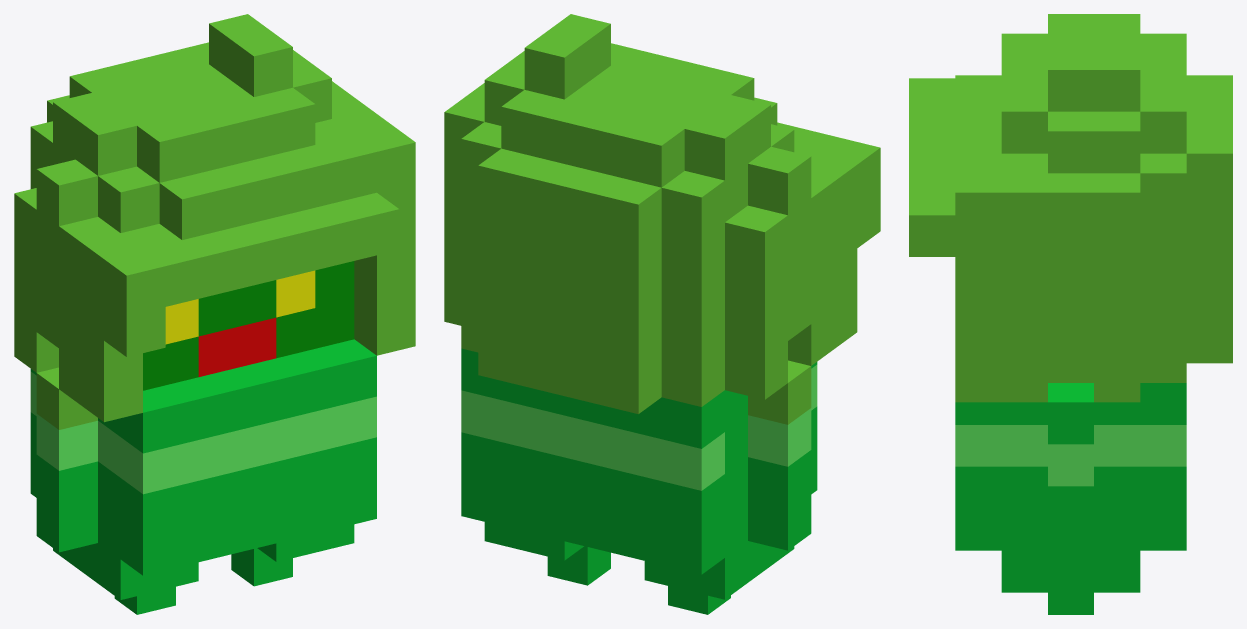
File: alien.obj
The picture shows the model from 3 angles, left to right: view 1: azimuth 30°, elevation 25°; view 2: azimuth 150°, elevation 25°; view 3: azimuth 270°, elevation 25°; orthographic projection. The views are drawn at different scales.
Bounding box in the file's own units: 16 × 26 × 14.
1 material, 1 textured.
